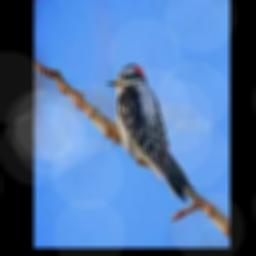Woodpecker: (107, 64, 195, 203)
